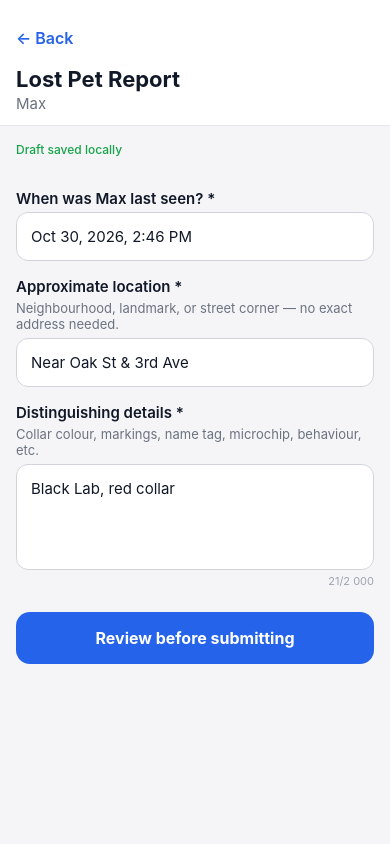
Test: LostPetReportScreen — consent gate in review modal › Share button is disabled without share consent
The width and height of the screenshot is (390, 844).
Click the button with aria-label "Review and consent": (195, 638) [16,612,374,664]
(page scrolled)
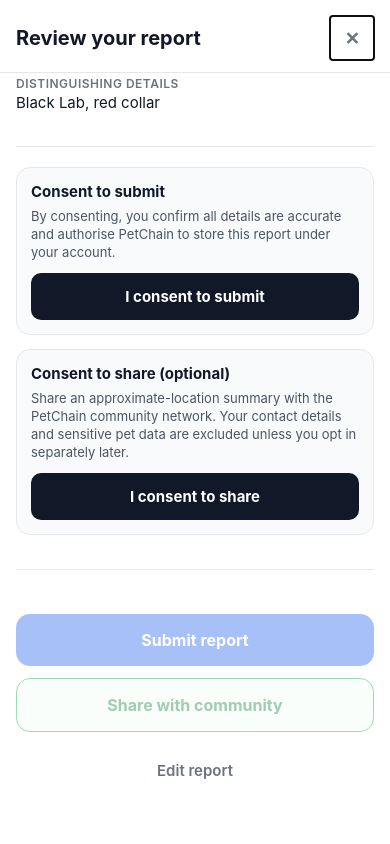
Expected: the heading "Review your report" is shown, [16,26,201,50]
Expected: the button labelled "Share with community" is disabled, [16,678,374,732]
